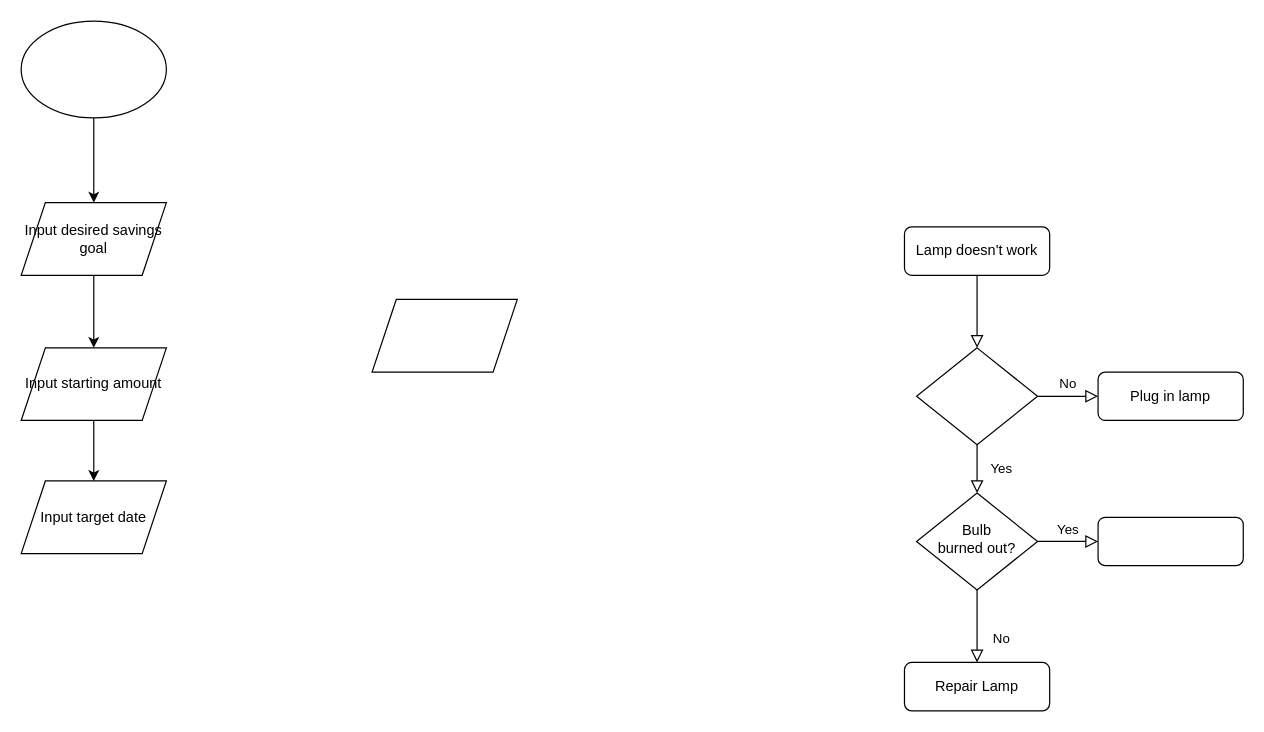
The diagram is 1264 pixels wide and 732 high, and some of its shapes have lost their labels. Here are the shapes that lost their labels. From the top down, the box of each, then its label:
(20, 20, 166, 118): Start
(915, 347, 1038, 445): Lamp plugged in?
(1097, 516, 1243, 566): Replace Bulb
